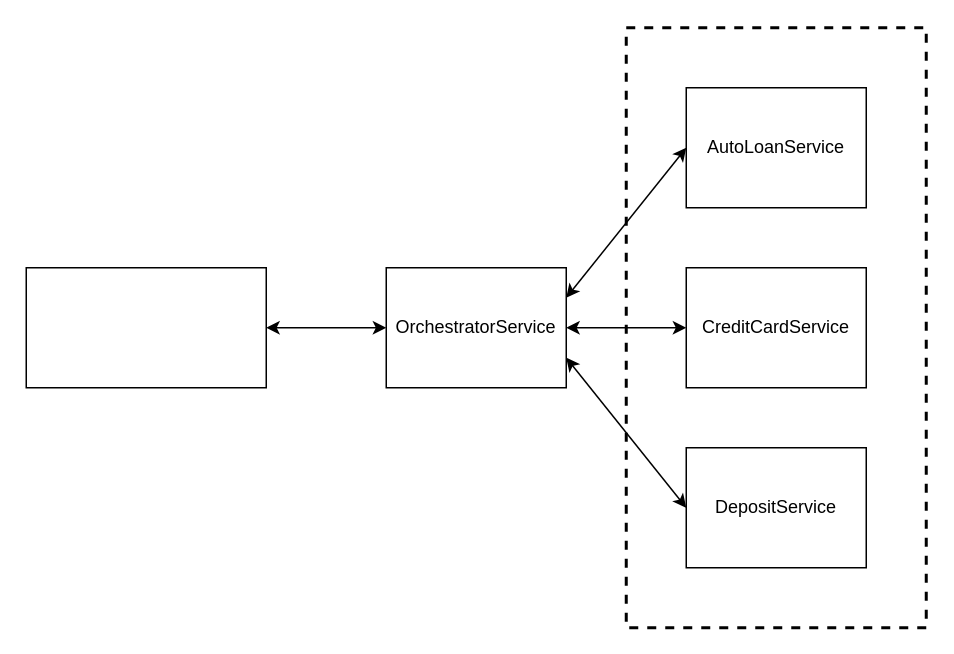
Image size: 954x654. Some labels were removed from this diagram. The shapes that lost their labels are listed below. From the top down, each one's box as (x1, y1, x2, y2) in pixels, then its label:
(25, 266, 266, 388): OrchestratorController
(624, 26, 927, 628): REST Client
